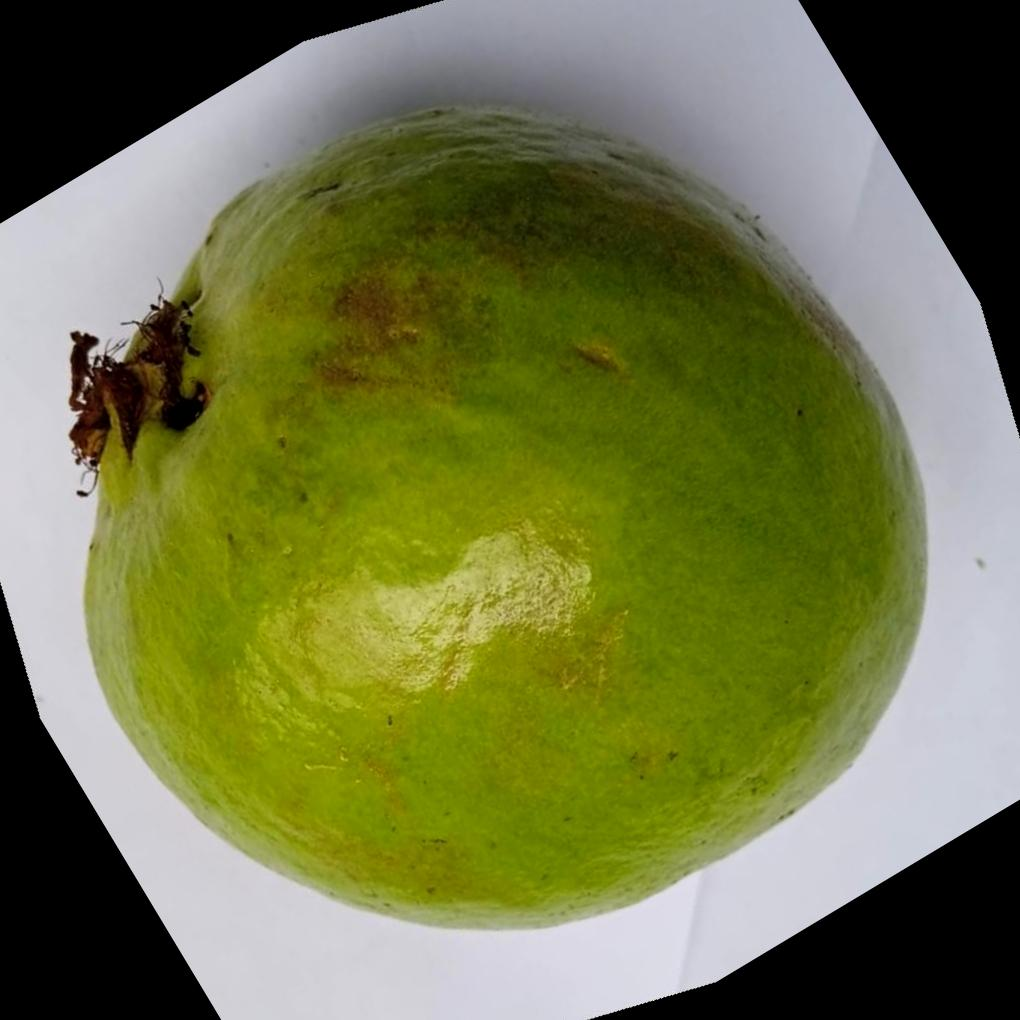FreshGuava: (68, 99, 934, 932)
